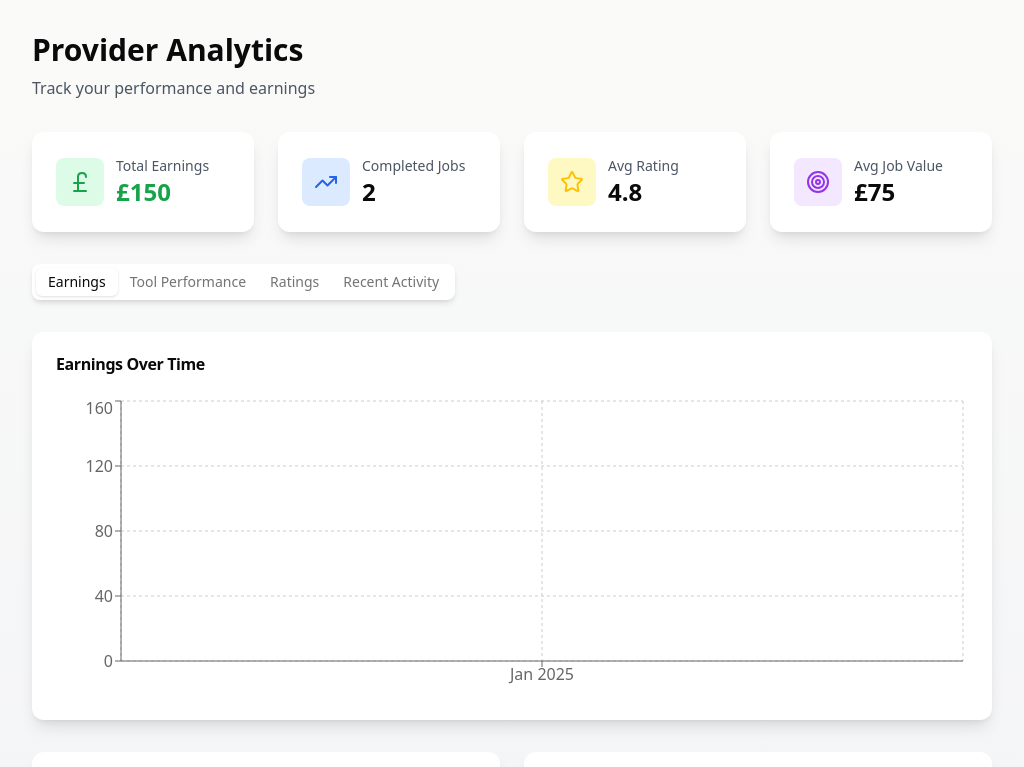
it: Analytics › allows switching tabs and shows tool performance + recent activity
The width and height of the screenshot is (1024, 767).
Expected: the heading "Provider Analytics" is shown, x1=32 y1=29 x2=304 y2=70
Click the tab "Tool Performance" at (188, 282), box x1=118 y1=268 x2=258 y2=296
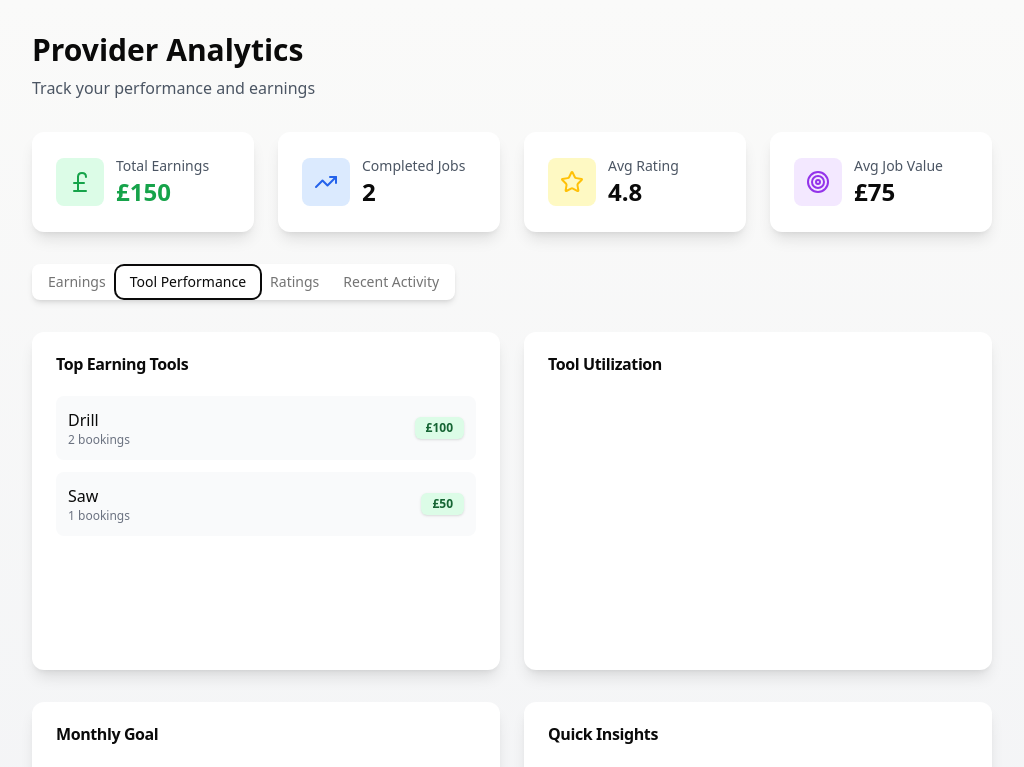
Expected: the heading "Top Earning Tools" is shown, x1=56 y1=353 x2=188 y2=375
Expected: the text "Drill" is shown, x1=68 y1=409 x2=99 y2=431
Click the tab "Recent Activity" at (391, 282), box x1=331 y1=268 x2=451 y2=296
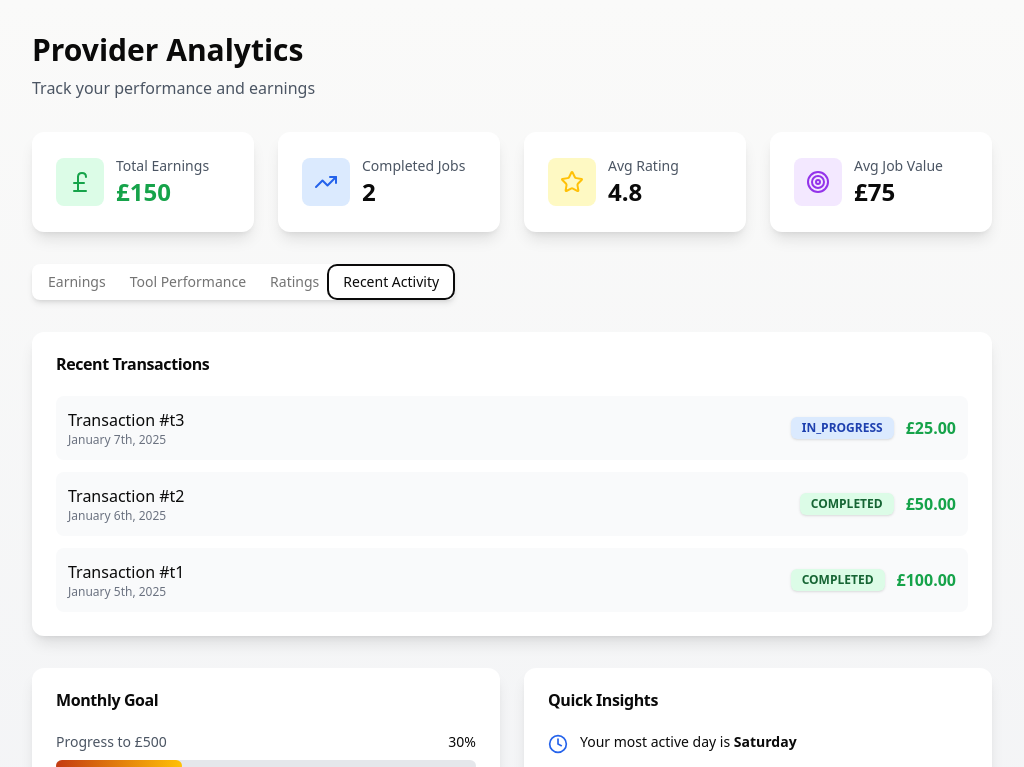
Expected: the heading "Recent Transactions" is shown, x1=56 y1=353 x2=209 y2=375
Expected: the text "Transaction #t1" is shown, x1=68 y1=560 x2=184 y2=584
Expected: the text "COMPLETED" next to "50.00" is shown, x1=811 y1=495 x2=883 y2=512
